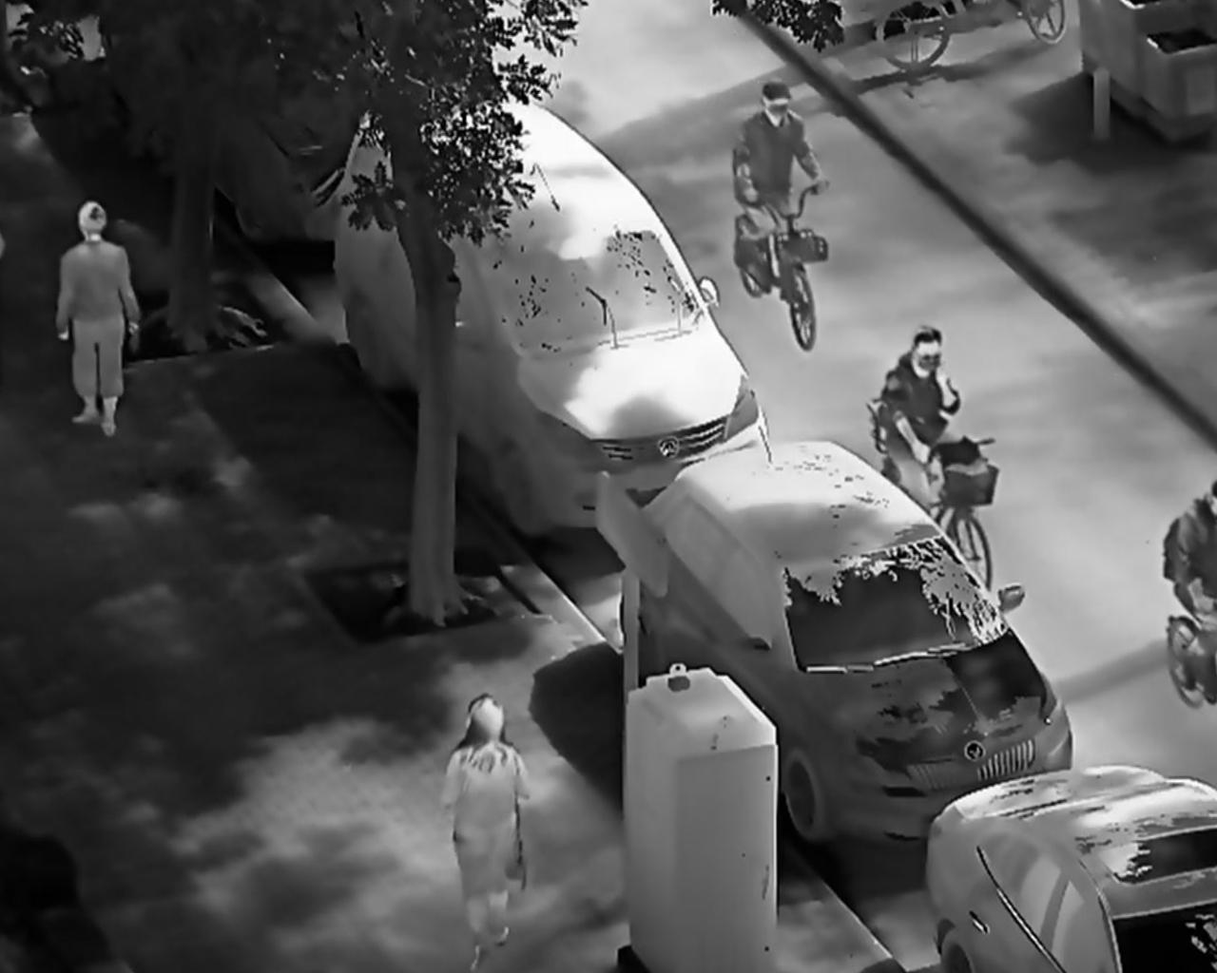person: (441, 693, 540, 973), (54, 199, 144, 442), (732, 78, 828, 302), (879, 323, 984, 525)
